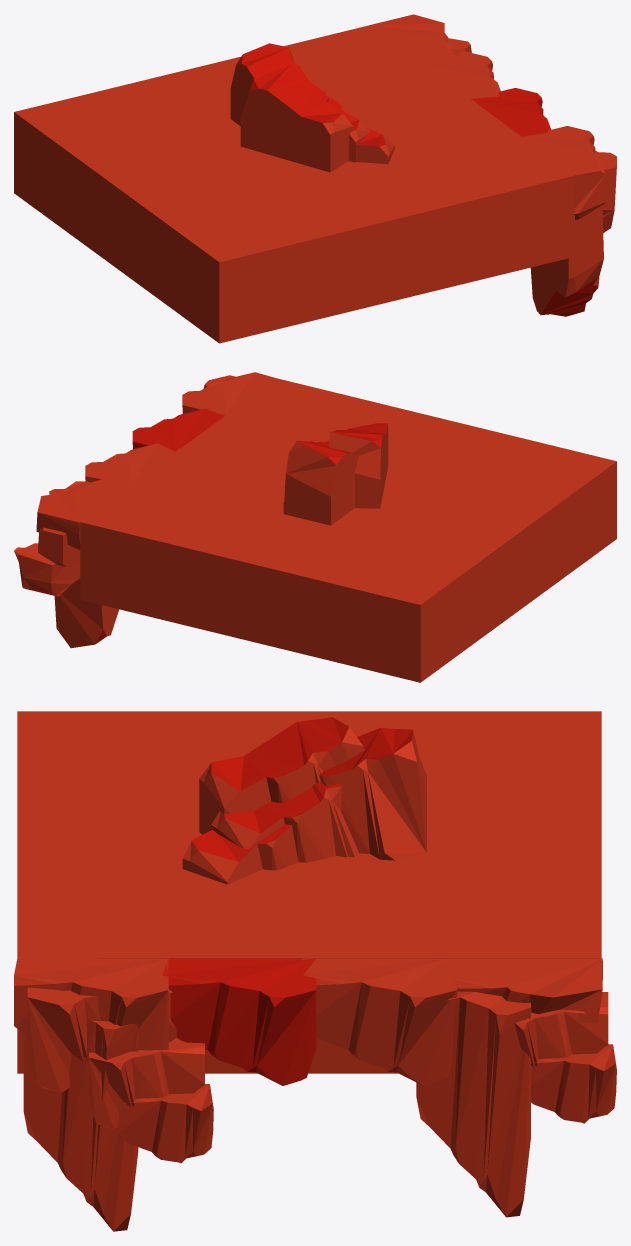
Rendered from map1.FBX.
3 views of the same model, one above another, from view 1: azimuth 30°, elevation 25°; view 2: azimuth 150°, elevation 25°; view 3: azimuth 270°, elevation 25° (orthographic). The views are drawn at different scales.
Parts seen in each view (by area): view 1: Rock.001; view 2: Rock.001; view 3: Rock.001.
Boxes of the visible parts, x1=… form: Rock.001: x1=14, y1=14, x2=616, y2=343; Rock.001: x1=14, y1=372, x2=616, y2=682; Rock.001: x1=14, y1=711, x2=616, y2=1231.
Size of the model in its own units: 488 by 423 by 273.
